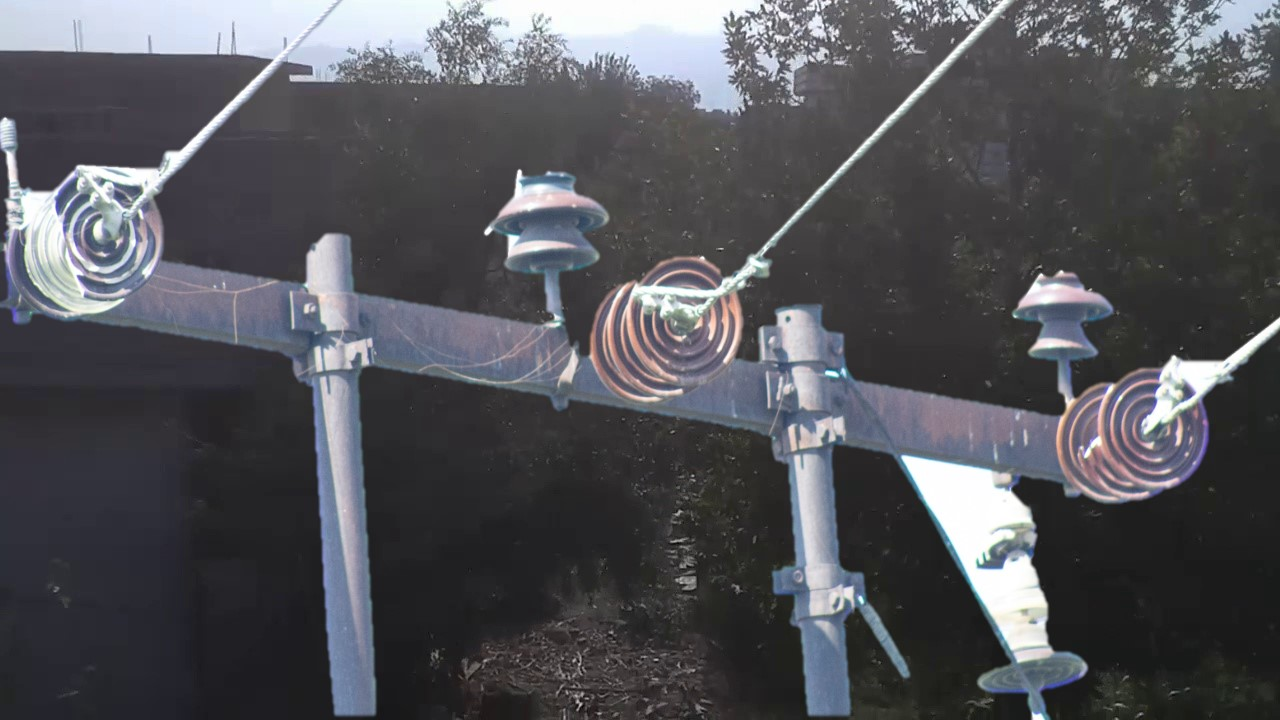defect_disc: (51, 157, 171, 301)
insulator_disc: (629, 244, 744, 387), (1095, 362, 1214, 493)
